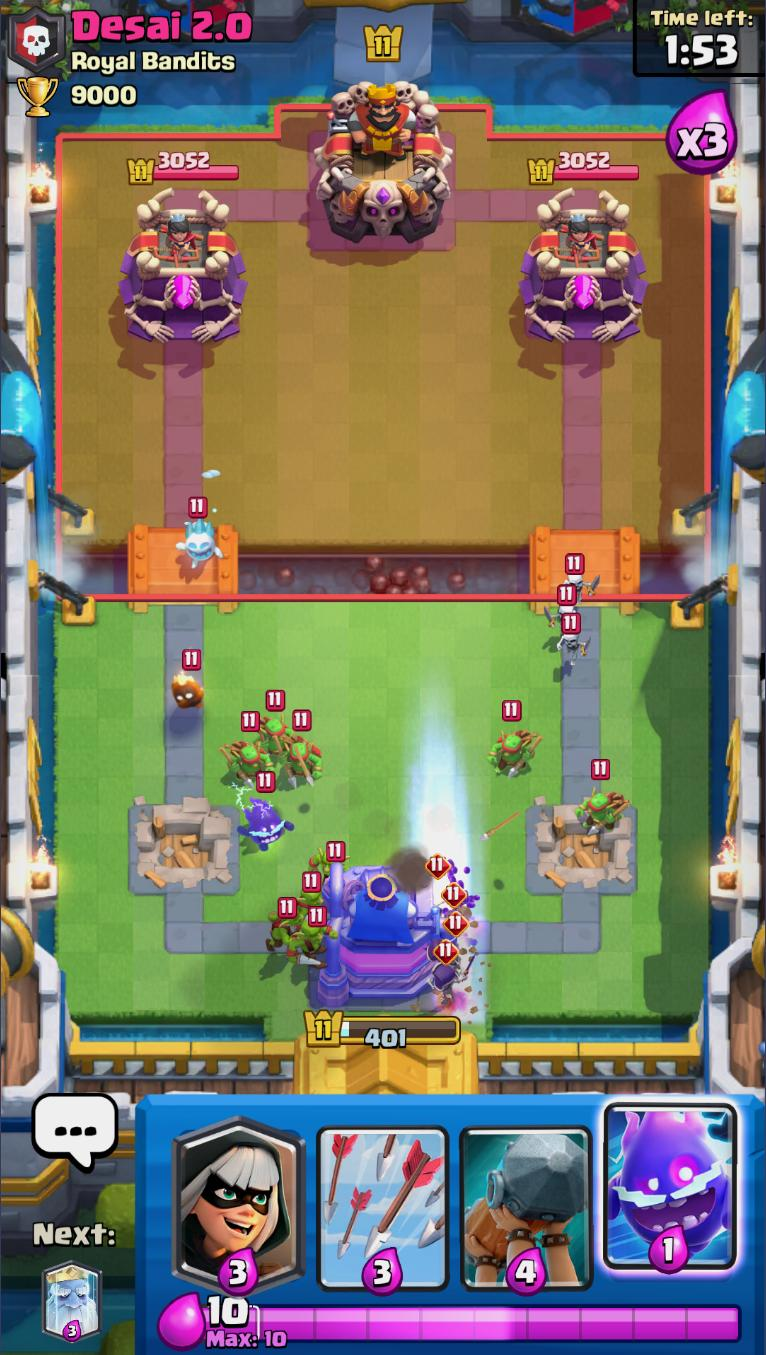ArrowDeck: (309, 1095, 458, 1296)
BanditDeck: (166, 1092, 313, 1295)
BattleRamDeck: (454, 1098, 600, 1294)
ElectroSpirit: (239, 774, 291, 858)
ElectroSpiritDeck: (595, 1095, 743, 1293)
Elixir: (202, 1296, 742, 1349)
EnemyTower: (122, 187, 250, 347), (520, 186, 648, 346)
EvoSkeleton: (429, 940, 473, 1006), (438, 881, 469, 942)
FireSpirit: (169, 648, 206, 712)
Goblin: (289, 905, 330, 972), (261, 896, 306, 954), (292, 872, 326, 916), (306, 840, 346, 876)
IceSpirit: (174, 497, 223, 573)
KingTower: (315, 81, 455, 246)
MyKingHP: (301, 1007, 463, 1052)
MyKingTower: (302, 860, 461, 1009)
MyPrincessTowerBrocken: (522, 800, 643, 899), (124, 799, 242, 894)
PrincessTower: (555, 213, 605, 270), (153, 212, 203, 265)
RoyaleGhostNext: (41, 1260, 103, 1344)
Skeleton: (555, 551, 602, 602), (554, 612, 595, 669), (546, 580, 579, 638)
SpearGoblin: (491, 701, 544, 781), (577, 760, 630, 837), (223, 712, 267, 783), (281, 712, 324, 784), (253, 689, 293, 756)
TowerPrincessHP: (524, 151, 641, 187), (128, 153, 242, 187)
